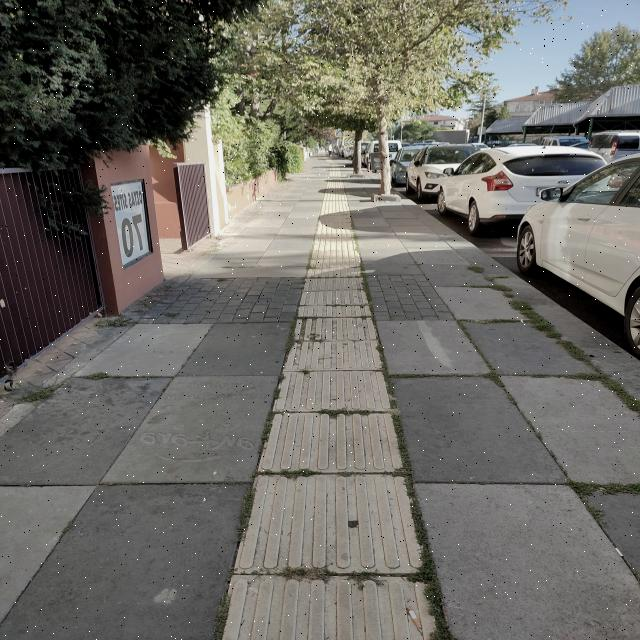sidewalk: (2, 158, 638, 640)
